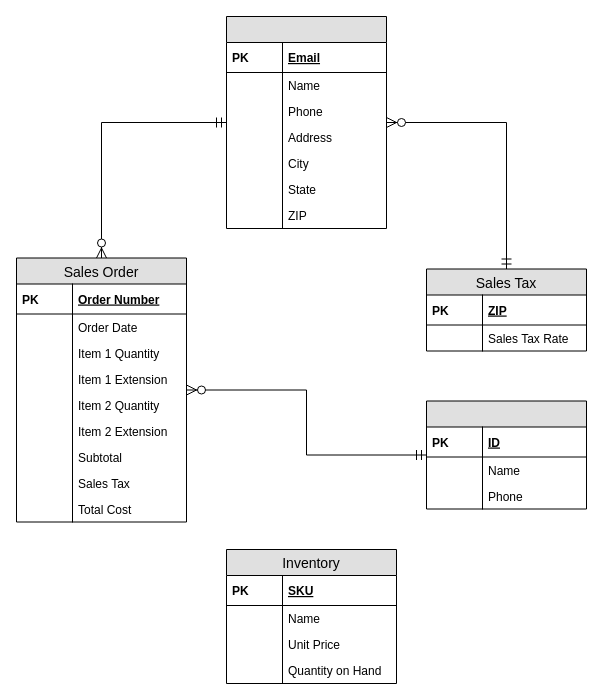
The diagram is 603 pixels wide and 700 high, and some of its shapes have lost their labels. Here are the shapes that lost their labels. From the top down, the box of each, then its label:
(226, 16, 386, 228): Customer
(426, 400, 586, 509): Carrier
